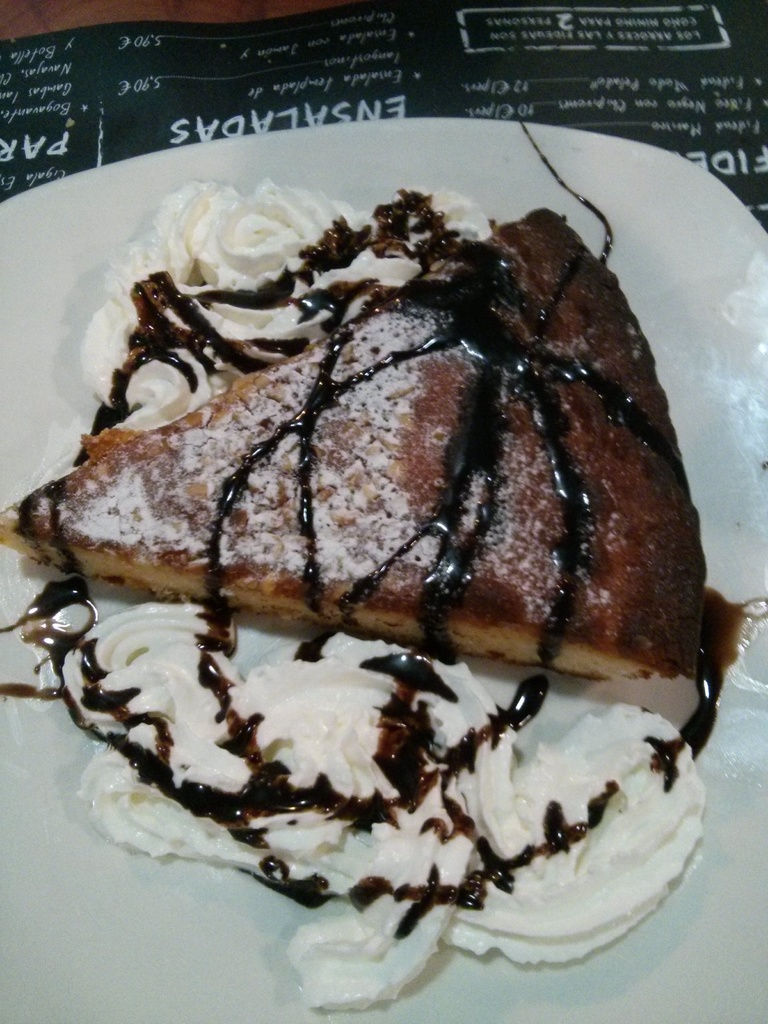cake: (0, 195, 716, 681)
